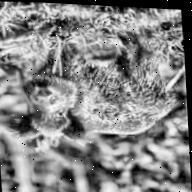boar: (0, 22, 184, 161)
